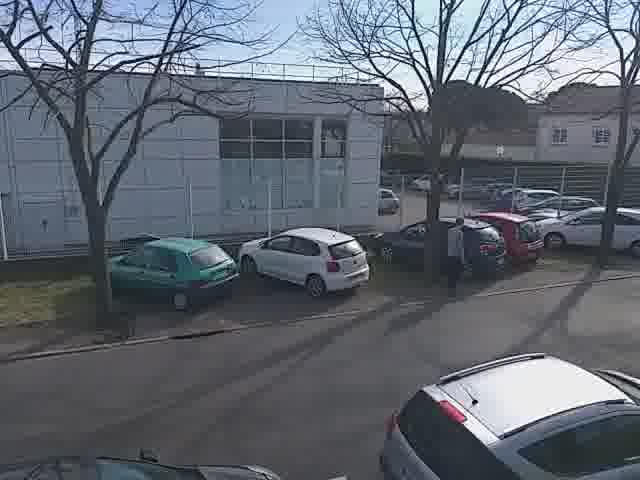persona: (437, 208, 475, 293)
